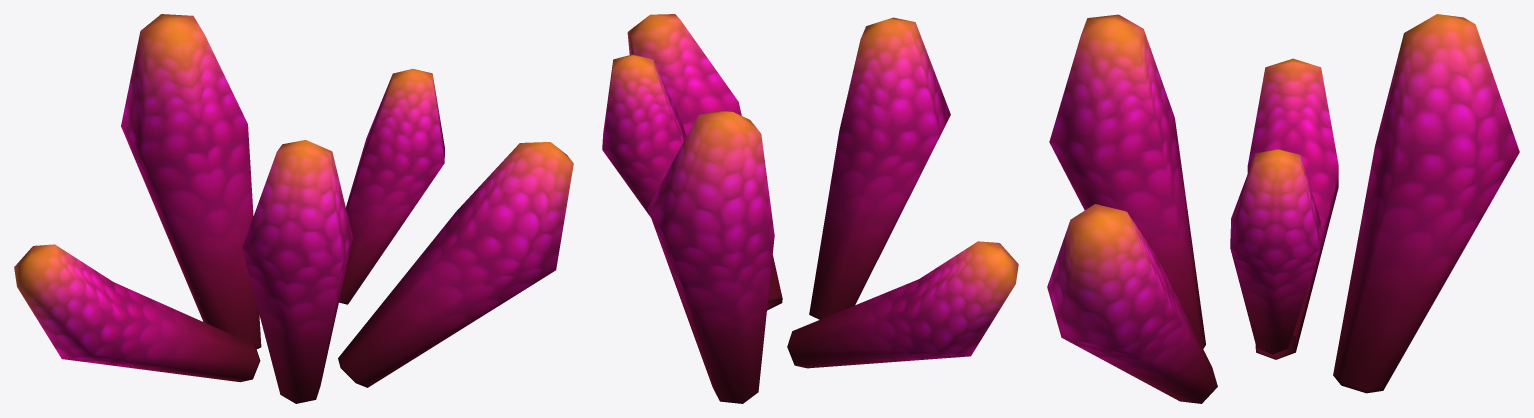
The model's file is Coral_11a.FBX.
3 renders of one model, left to right at view 1: azimuth 30°, elevation 25°; view 2: azimuth 150°, elevation 25°; view 3: azimuth 270°, elevation 25°, orthographic. The views are drawn at different scales.
Parts seen in each view (by area): view 1: Coral_11a; view 2: Coral_11a; view 3: Coral_11a.
Part boxes in pixels (x1,y1,x2,y2): Coral_11a: [14, 14, 573, 403]; Coral_11a: [602, 14, 1018, 403]; Coral_11a: [1047, 14, 1519, 403].
Size of the model in its own units: 9.75 by 6.28 by 7.54.
